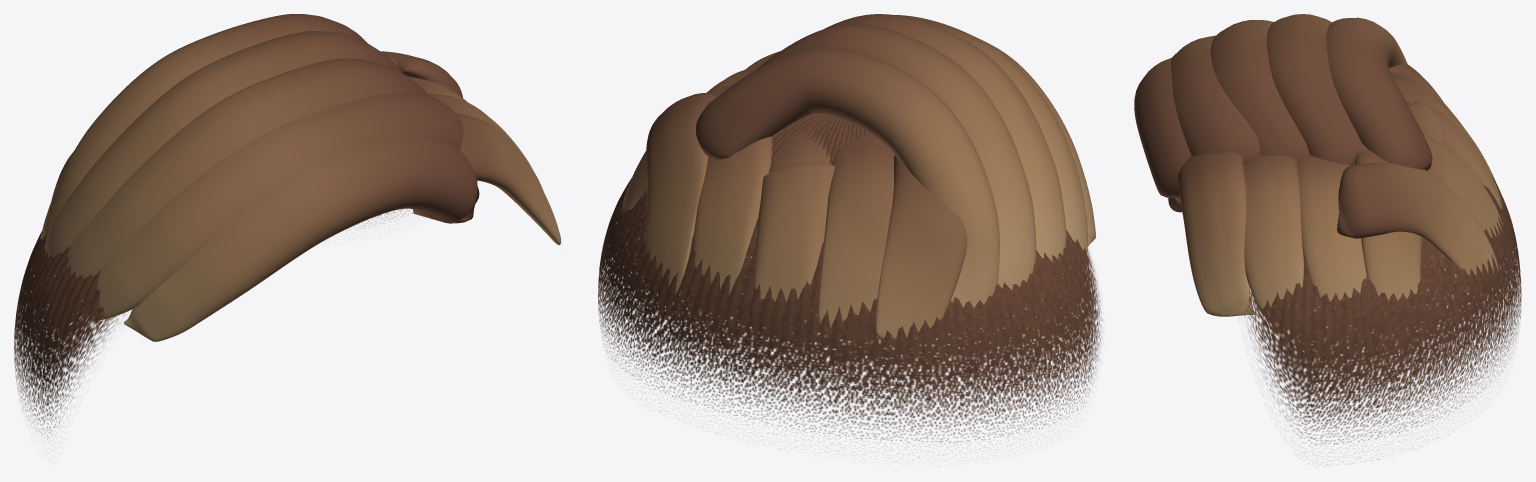
The model's file is Masculine-taper-hair256-ombre.glb.
3 views of the same model, side by side, from view 1: azimuth 30°, elevation 25°; view 2: azimuth 150°, elevation 25°; view 3: azimuth 270°, elevation 25° (orthographic). The views are drawn at different scales.
Parts seen in each view (by area): view 1: 226 hair / Hair252 / sculpted locks, 226 hair / Hair252 / gentle tonal variation, 226 hair / Hair256 / selected B sides; view 2: 226 hair / Hair252 / sculpted locks, 226 hair / Hair256 / selected B sides, 226 hair / Hair252 / gentle tonal variation; view 3: 226 hair / Hair252 / sculpted locks, 226 hair / Hair256 / selected B sides, 226 hair / Hair252 / gentle tonal variation.
Boxes of the visible parts, x1,y1,x2,y2 form: 226 hair / Hair252 / sculpted locks: (40,14,543,320); 226 hair / Hair252 / gentle tonal variation: (123,113,560,341); 226 hair / Hair256 / selected B sides: (14,209,561,438); 226 hair / Hair252 / sculpted locks: (621,14,1087,341); 226 hair / Hair256 / selected B sides: (598,113,1102,448); 226 hair / Hair252 / gentle tonal variation: (745,40,1095,339); 226 hair / Hair252 / sculpted locks: (1171,14,1506,322); 226 hair / Hair256 / selected B sides: (1244,102,1521,464); 226 hair / Hair252 / gentle tonal variation: (1134,58,1495,316).
Size of the model in its own units: 0.972 by 0.6944 by 0.7438.
3 materials, 1 textured.
